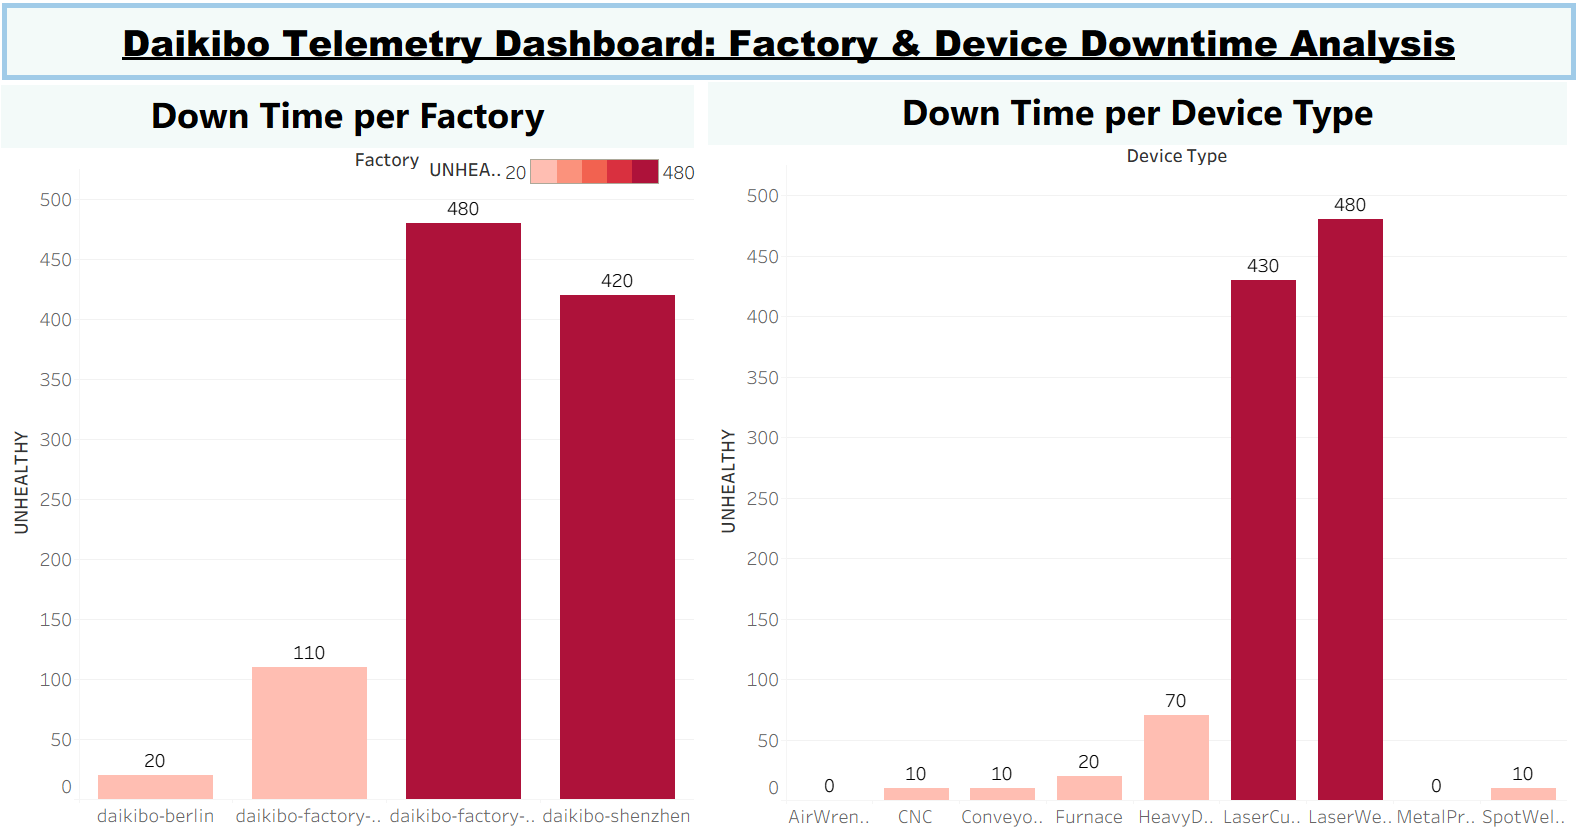

The page's visual inventory and layout, read from the dashboard file:
{"tool":"tableau","page":{"name":"Dashboard 1","canvas":[1000,1000],"units":"permille","ordinal":0},"visuals":[{"type":"text","box":[6.8,32.9,971.6,89]},{"type":"worksheet","title":"Sheet 2","mark":"Automatic","rows":["Calculation_1483014614269952"],"cols":["deviceType"],"box":[442.6,124.7,530.2,868.5]},{"type":"worksheet","title":"Sheet 1","mark":"Automatic","rows":["Calculation_1483014614269952"],"cols":["factory"],"box":[6.2,127.4,427.8,864.4]},{"type":"legend","title":"Sheet 1","param":"[federated.1vlh3361nyzaeq12pr8ng1dl3nso].[sum:Calculation_1483014614269952:qk]","box":[270.4,209.6,167.3,43.8]}]}

Visuals, with their boxes on the dashboard's canvas, which has no fixed pixel size, in thousandths of its width and height (x1, y1, x2, y2). These are canvas units, not pixel positions in the 1578x835 screenshot, which may show the page scaled, cropped or inside an application window:
text: [7, 33, 978, 122]
"Sheet 2" worksheet: [443, 125, 973, 993]
"Sheet 1" worksheet: [6, 127, 434, 992]
"Sheet 1" legend: [270, 210, 438, 253]
